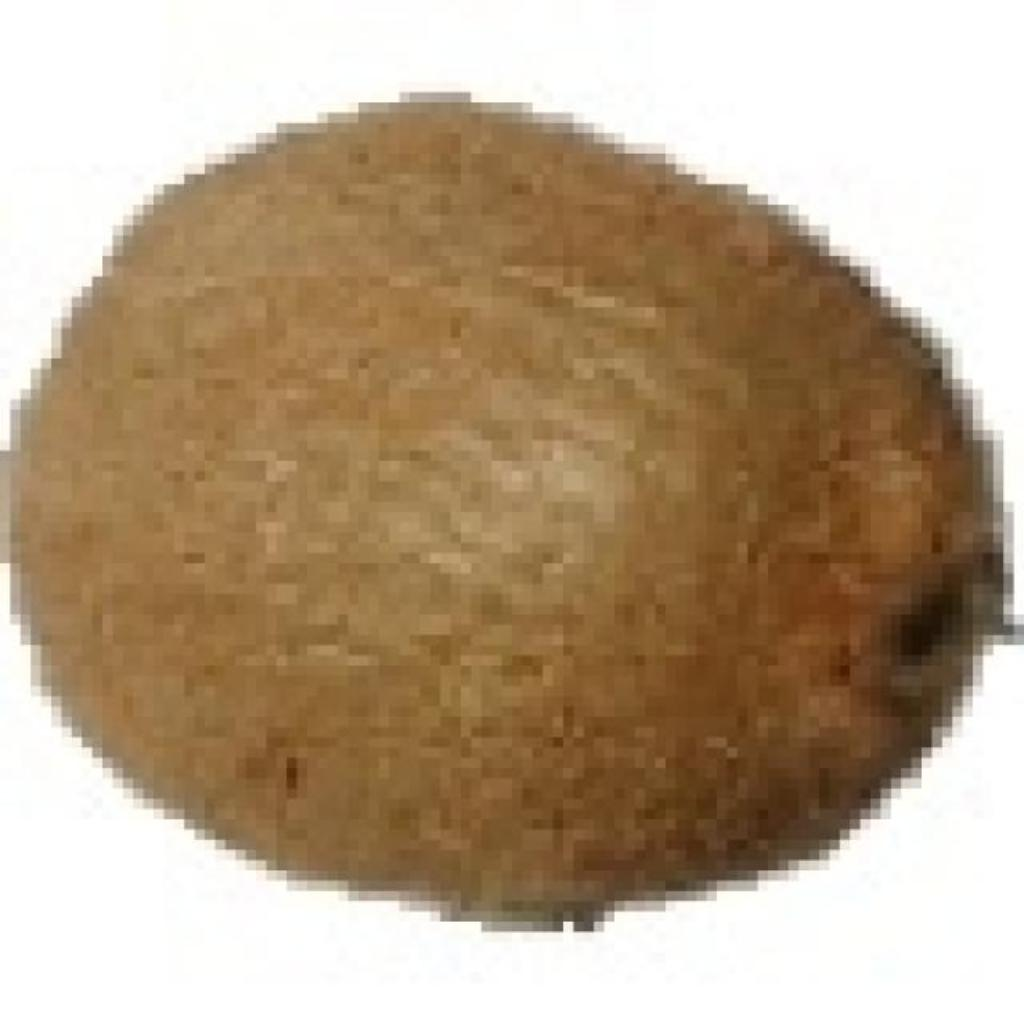kiwi: (10, 82, 983, 901)
